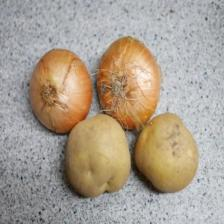Potato: (66, 111, 132, 197), (134, 111, 200, 192)
